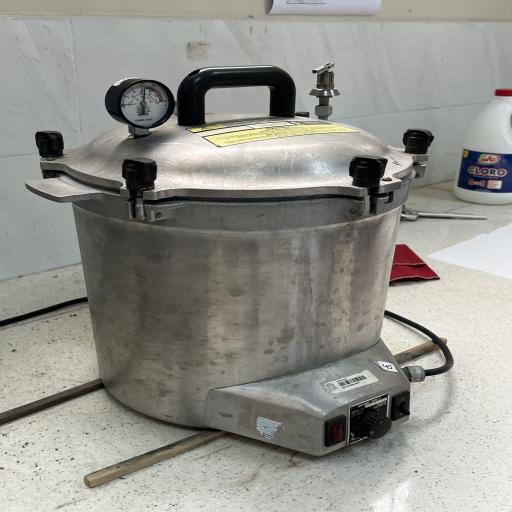Autoclave: (20, 56, 430, 464)
